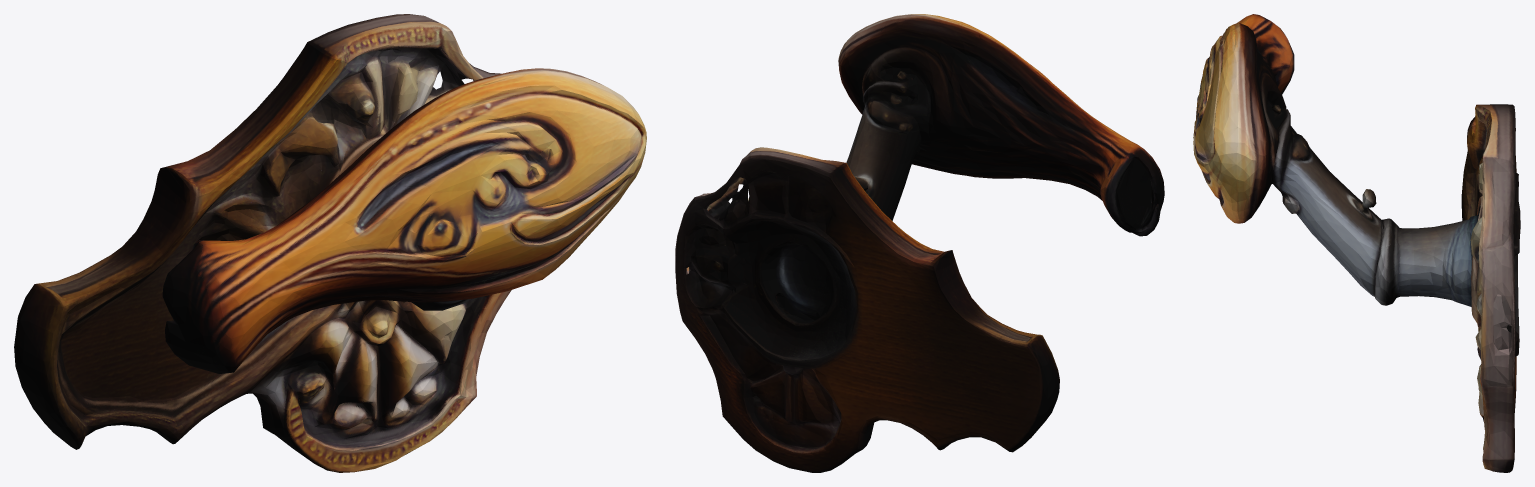
The model's file is wooden-door-handle-rustic.jpeg.glb.
3 views of the same model, side by side, from view 1: azimuth 30°, elevation 25°; view 2: azimuth 150°, elevation 25°; view 3: azimuth 270°, elevation 25° (orthographic). The views are drawn at different scales.
Parts seen in each view (by area): view 1: world; view 2: world; view 3: world.
Part boxes in pixels (<box>): world: <box>14,14,646,472</box>; world: <box>675,14,1164,472</box>; world: <box>1193,14,1520,472</box>.
Size of the model in its own units: 1 by 0.9484 by 0.6901.
1 material, 1 textured.
